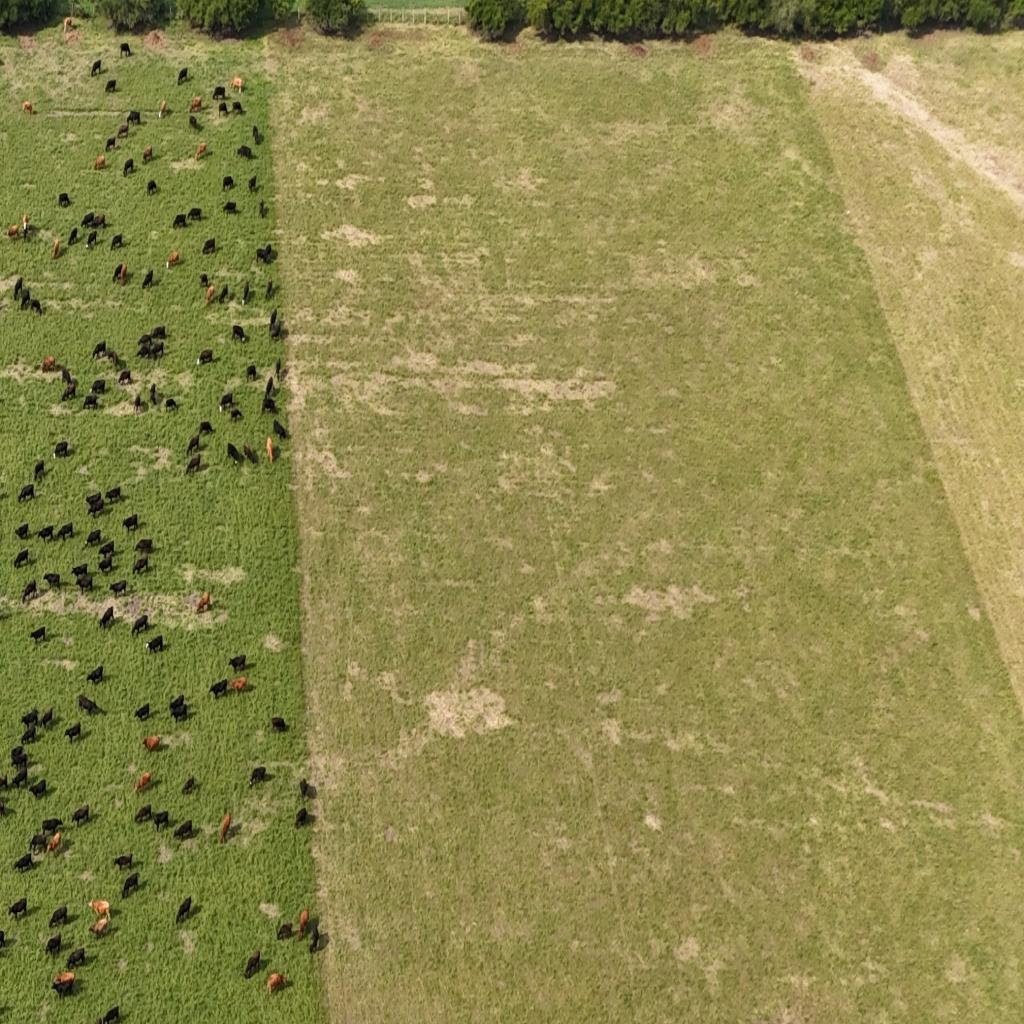cow: (51, 972, 75, 998), (88, 898, 111, 922), (266, 972, 288, 996), (308, 923, 324, 954), (96, 1004, 120, 1024), (66, 946, 86, 970), (45, 932, 63, 958), (8, 896, 28, 919), (90, 913, 110, 936), (122, 872, 139, 899), (45, 829, 62, 856), (49, 904, 68, 928), (134, 770, 152, 795), (29, 832, 47, 857), (176, 896, 192, 924), (244, 952, 260, 980), (13, 852, 34, 873), (77, 694, 97, 716), (20, 708, 39, 730), (72, 805, 90, 828), (85, 491, 103, 514), (226, 442, 242, 467), (174, 820, 194, 840), (12, 765, 28, 790), (141, 734, 160, 755), (170, 702, 188, 724), (152, 810, 170, 832), (29, 779, 47, 801), (75, 573, 93, 595), (21, 580, 37, 604), (209, 680, 228, 700), (134, 804, 153, 824), (112, 853, 133, 871), (146, 635, 164, 656), (86, 665, 104, 686), (41, 818, 62, 836), (13, 548, 30, 570), (64, 722, 81, 744), (249, 766, 267, 786), (228, 654, 246, 674), (99, 606, 114, 630), (28, 625, 46, 645), (56, 522, 74, 542), (220, 811, 231, 843), (185, 453, 201, 475), (132, 615, 148, 637), (11, 746, 27, 768), (186, 434, 201, 457), (229, 676, 248, 694), (256, 246, 274, 265), (43, 572, 62, 590), (104, 485, 122, 504), (134, 702, 151, 722), (121, 514, 138, 534), (273, 419, 289, 440), (270, 716, 288, 734), (109, 580, 127, 598), (36, 525, 54, 543), (18, 484, 34, 504), (134, 539, 154, 555), (61, 382, 77, 402), (133, 556, 149, 576), (20, 724, 36, 744), (98, 553, 113, 574), (299, 908, 309, 939), (196, 591, 210, 613), (300, 778, 314, 800), (40, 707, 54, 729), (196, 349, 214, 366), (85, 529, 102, 547), (98, 540, 116, 557), (71, 563, 89, 580), (277, 921, 293, 940), (137, 336, 152, 356), (294, 807, 308, 828), (244, 441, 256, 465), (105, 351, 121, 369), (220, 393, 234, 413), (13, 276, 24, 301), (149, 341, 162, 362), (14, 523, 30, 540), (82, 394, 98, 411), (232, 325, 247, 343), (54, 441, 69, 459), (182, 775, 196, 794), (115, 263, 127, 285), (270, 318, 281, 342), (150, 326, 166, 342), (262, 397, 276, 415), (92, 341, 106, 359), (237, 145, 252, 161), (141, 268, 153, 288), (264, 376, 274, 400), (91, 380, 106, 396), (202, 238, 215, 256), (133, 394, 143, 417), (266, 436, 274, 464), (222, 201, 238, 215), (127, 110, 141, 126), (118, 370, 132, 386), (81, 213, 95, 229), (34, 460, 44, 482), (206, 284, 216, 306), (30, 298, 42, 316), (246, 364, 258, 382), (265, 279, 274, 303), (172, 214, 186, 229), (166, 251, 180, 266), (212, 86, 226, 101), (199, 421, 213, 436), (218, 284, 228, 305), (86, 231, 97, 250), (42, 356, 55, 372), (110, 234, 123, 250), (189, 97, 202, 113), (92, 214, 105, 230), (231, 76, 243, 93), (196, 141, 206, 161), (242, 280, 250, 305), (177, 67, 188, 85), (123, 159, 134, 177), (61, 368, 72, 386), (164, 398, 178, 412), (7, 224, 20, 239), (58, 192, 70, 208), (188, 114, 200, 130), (94, 155, 106, 171), (149, 383, 157, 407), (117, 124, 129, 140), (269, 307, 278, 328), (188, 208, 202, 221), (68, 228, 78, 246), (21, 293, 31, 311), (120, 43, 131, 59), (52, 238, 60, 260), (105, 137, 116, 153), (0, 798, 9, 817), (91, 60, 101, 77), (142, 146, 152, 163), (222, 176, 234, 190), (22, 101, 34, 115), (230, 408, 242, 422), (232, 101, 243, 116), (0, 773, 9, 791), (147, 179, 157, 195), (105, 80, 116, 94), (252, 125, 260, 144), (248, 176, 257, 192), (157, 100, 165, 118), (64, 16, 73, 32), (275, 357, 281, 381), (218, 102, 228, 116), (259, 200, 267, 217), (200, 274, 208, 288), (94, 1016, 104, 1024)
